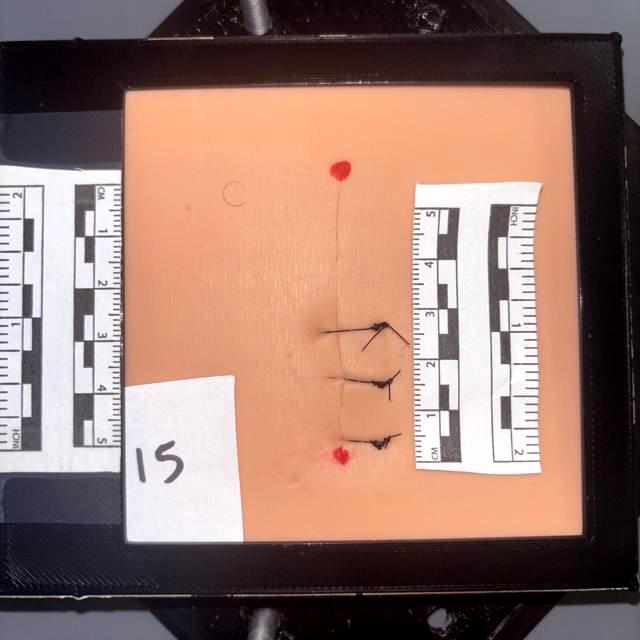incision_line: (335, 169, 349, 461)
scale_marker: (414, 309, 438, 356)
suture_d: (333, 377, 352, 435), (335, 332, 353, 376)
suture_l: (323, 327, 343, 339), (328, 372, 344, 383), (334, 436, 344, 442)
suture_r: (345, 374, 387, 389), (346, 436, 383, 446), (343, 326, 382, 334)
